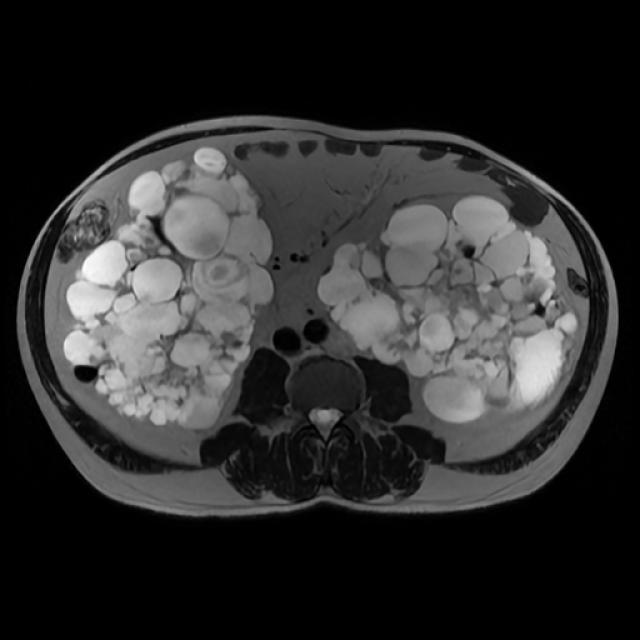sag: (66, 148, 276, 427)
sol: (319, 196, 577, 426)
